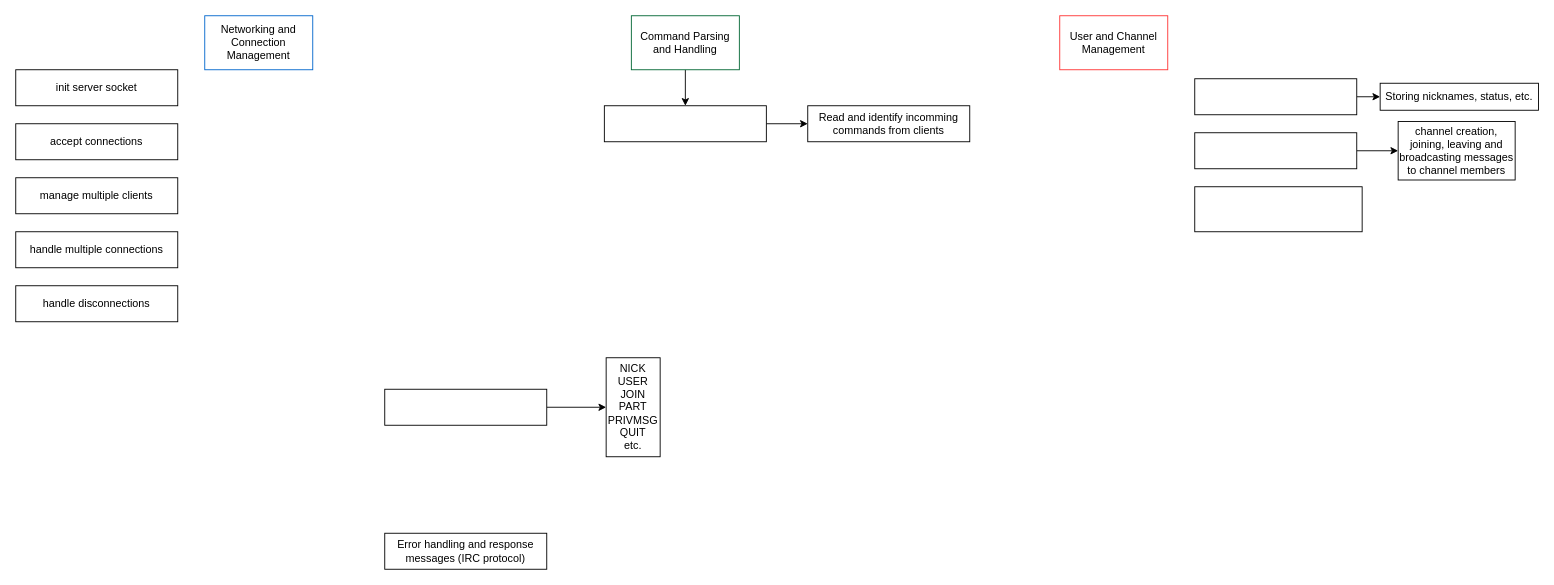
Image size: 1554x585. Some labels were removed from this diagram. The shapes that lost their labels are listed below. From the top down, each one's centre as x and y in pixels, then its label:
(x=1275, y=96): User management
(x=684, y=123): Command parser
(x=1275, y=150): Channel management
(x=1278, y=209): Handling data structures to store client and channel information
(x=465, y=406): Implement core IRC commands
